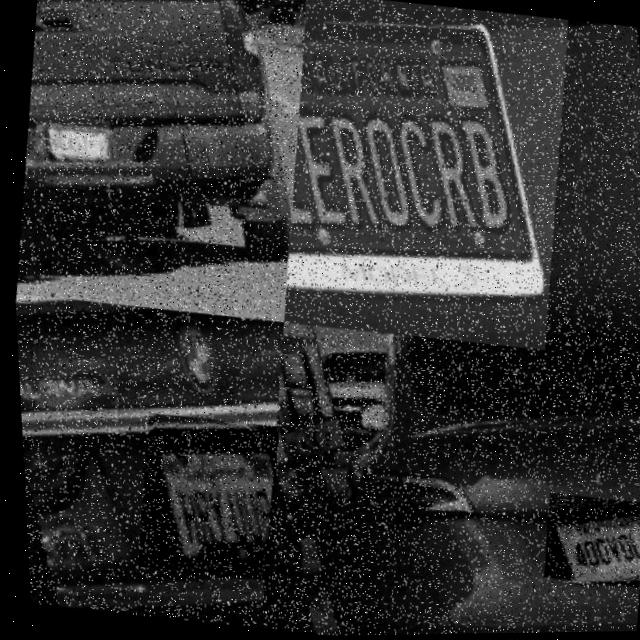LicensePlate: (265, 0, 581, 354), (125, 412, 280, 582), (542, 504, 636, 582), (36, 115, 106, 158)
